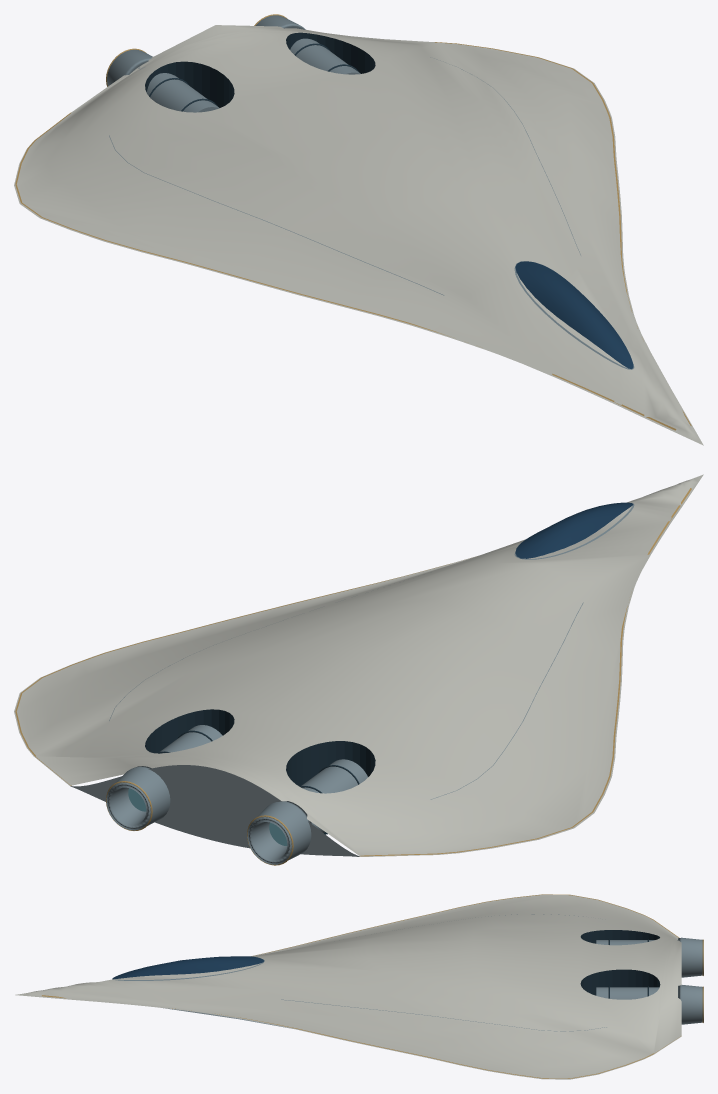
Rendered from shuttle_01_d0_lod1.glb.
3 renders of one model, top to bottom at view 1: azimuth 30°, elevation 25°; view 2: azimuth 150°, elevation 25°; view 3: azimuth 270°, elevation 25°, orthographic. The views are drawn at different scales.
Visible parts, largest first — view 1: HULL, CANOPY, ENGINE_L_SURFACE; view 2: HULL, ENGINE_L_SURFACE, ENGINE_R_SURFACE, CANOPY; view 3: HULL, CANOPY, ENGINE_R_SURFACE, ENGINE_L_SURFACE.
Part boxes in pixels (x1,y1,x2,y2): HULL: (14,25,703,445); CANOPY: (515,261,633,368); ENGINE_L_SURFACE: (106,48,152,86); HULL: (14,474,703,856); ENGINE_L_SURFACE: (247,801,311,865); ENGINE_R_SURFACE: (106,766,170,830); CANOPY: (515,502,633,558); HULL: (15,894,681,1079); CANOPY: (112,956,263,978); ENGINE_R_SURFACE: (678,985,703,1024); ENGINE_L_SURFACE: (678,937,703,977).
Size of the model in its own units: 23.6 by 3.87 by 37.2.
